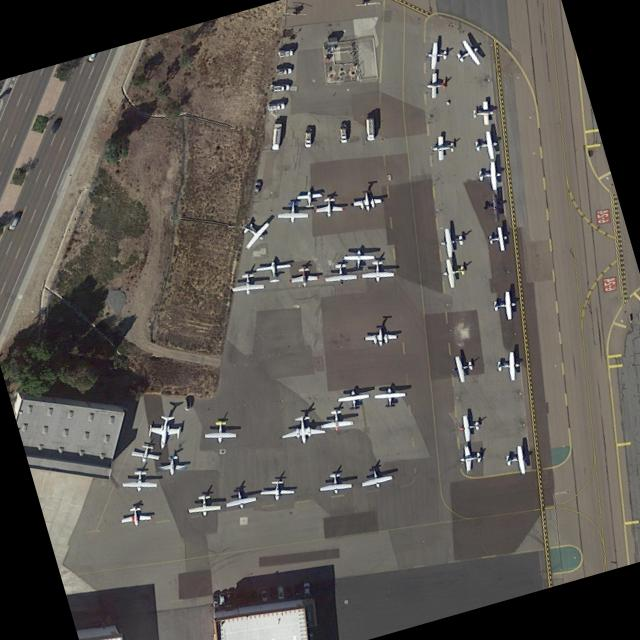large-vehicle: (270, 122, 282, 148), (365, 116, 375, 139), (266, 99, 284, 110), (269, 81, 289, 90), (339, 121, 347, 142), (303, 126, 311, 146), (276, 47, 293, 56), (275, 65, 290, 73)
plane: (278, 411, 327, 445), (234, 213, 274, 250), (450, 35, 485, 70), (147, 414, 183, 448), (220, 483, 258, 511), (348, 185, 385, 213), (357, 462, 393, 489), (254, 258, 291, 283), (335, 386, 371, 411), (439, 255, 466, 288), (318, 407, 353, 432), (230, 270, 265, 295), (472, 128, 499, 160), (449, 351, 476, 383), (186, 493, 222, 517), (438, 224, 464, 257), (121, 468, 158, 490), (504, 443, 530, 474), (318, 470, 353, 493), (323, 261, 358, 284), (492, 288, 517, 320), (363, 323, 398, 345), (204, 418, 237, 441), (360, 259, 394, 281), (276, 199, 310, 221), (478, 159, 501, 191), (260, 478, 295, 499), (119, 504, 152, 526), (497, 349, 520, 380), (373, 385, 405, 407), (342, 247, 374, 269), (129, 442, 162, 463), (287, 265, 320, 286), (458, 442, 481, 472), (482, 191, 503, 221), (157, 454, 187, 475), (431, 133, 454, 160), (471, 98, 494, 125), (486, 224, 509, 251), (314, 196, 344, 216), (458, 412, 479, 440), (426, 40, 447, 68), (426, 71, 447, 97), (296, 188, 321, 207)
small-vehicle: (7, 214, 19, 230), (252, 179, 262, 194), (49, 120, 59, 135), (303, 580, 310, 596), (276, 583, 283, 598), (211, 592, 218, 606), (219, 590, 225, 604), (184, 396, 190, 410), (226, 589, 232, 602), (261, 588, 267, 600)
